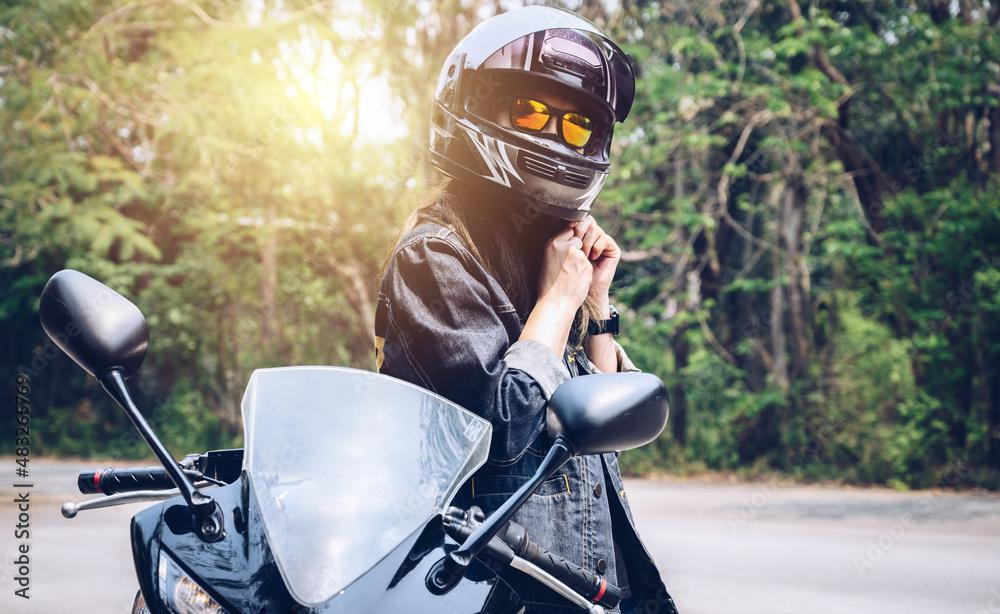helmet: (428, 3, 637, 224)
